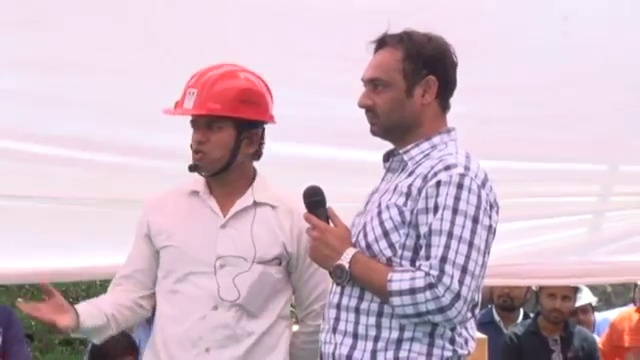helmet: (160, 59, 284, 127), (571, 285, 599, 310)
helmet_off: (356, 26, 464, 149), (537, 288, 577, 326), (488, 285, 527, 314)
helmet_on: (165, 61, 285, 203), (570, 287, 600, 334)
person: (17, 48, 329, 359), (311, 14, 516, 360), (510, 292, 600, 360), (475, 280, 537, 360), (600, 286, 640, 360)
